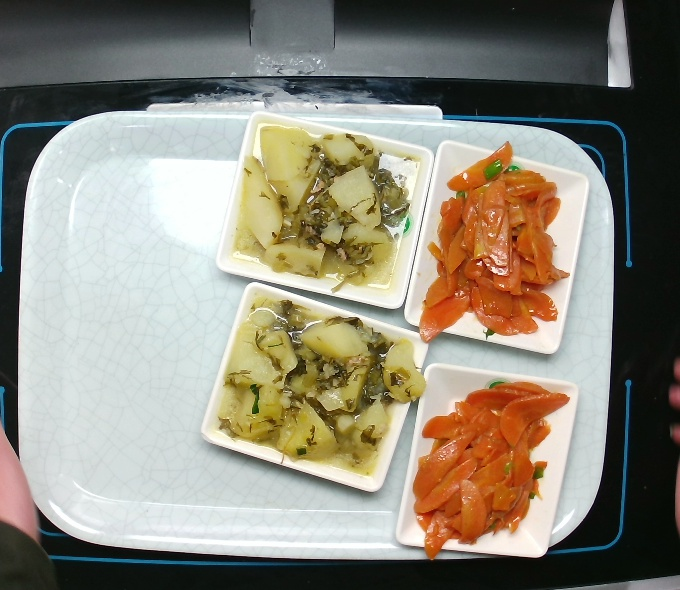wcq-HuLuoBo: (414, 139, 572, 348), (410, 366, 569, 558)
wcq-XueCaiTuDou: (215, 296, 425, 478), (232, 115, 424, 296)
